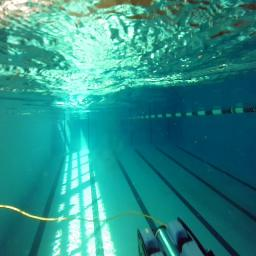front: (136, 216, 219, 256)
